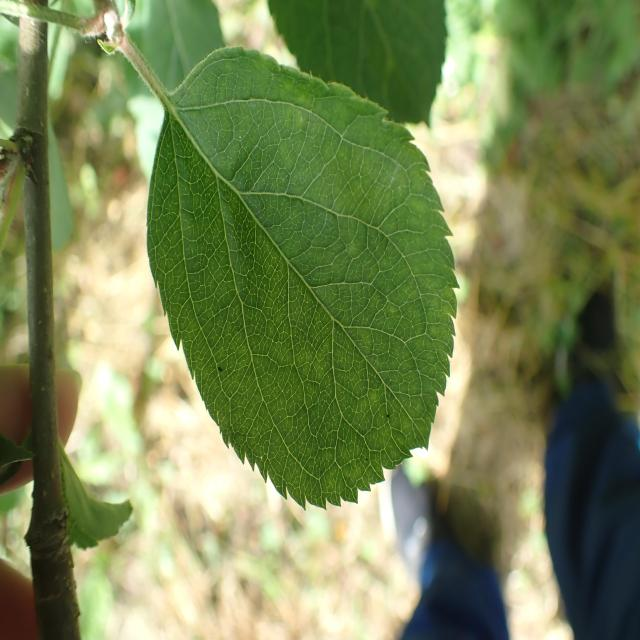healthy: (146, 45, 459, 512), (266, 0, 448, 130)
